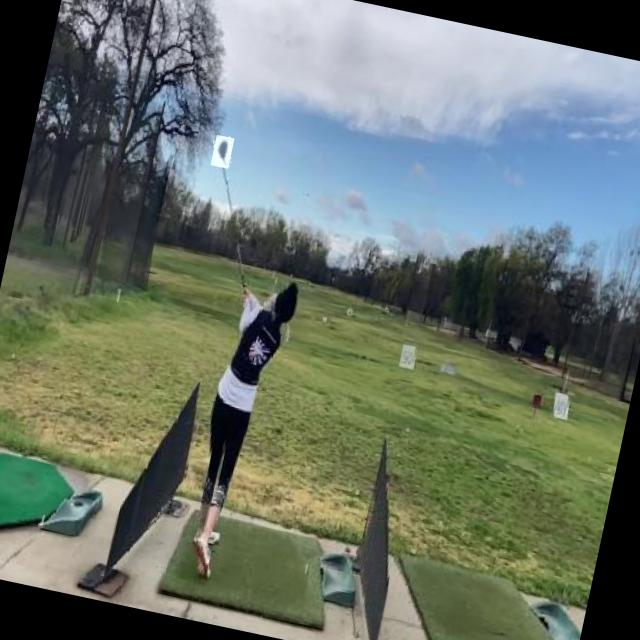club head: (210, 134, 234, 168)
